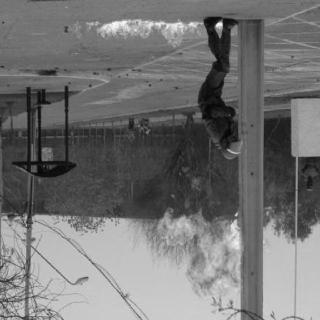Fire: (152, 174, 268, 308), (60, 14, 230, 50)
